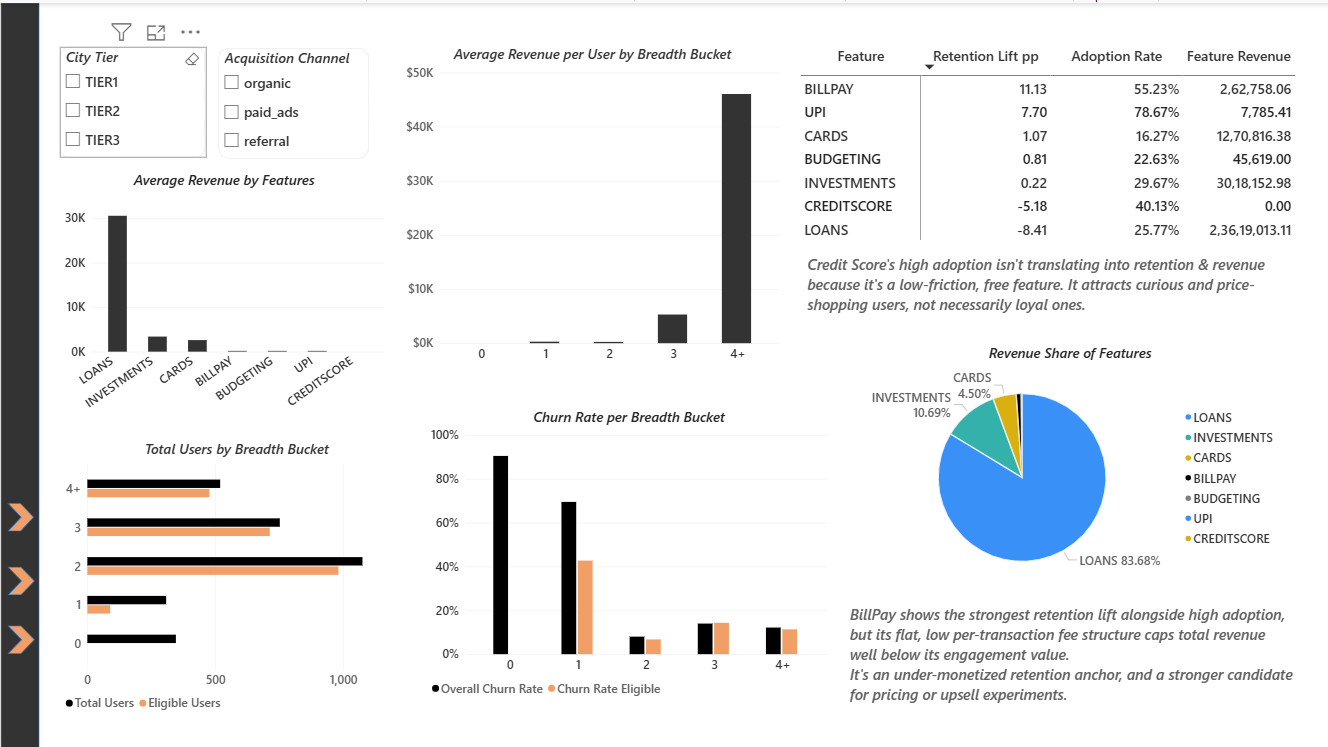

The dashboard page shown, as its layout file describes it:
{"tool":"powerbi","page":{"name":"Retention & Revenue","canvas":[1920,1080],"ordinal":2},"visuals":[{"type":"shape","box":[0,0,55.6,1080],"z":0,"group":"g1"},{"type":"clusteredColumnChart","title":"Churn Rate per Breadth Bucket","fields":{"Category":["fact_user_summary.Breadth Bucket"],"Y":["Measure Table.Overall Churn Rate","Measure Table.Churn Rate Eligible"]},"box":[606,570,606,454],"z":0},{"type":"pieChart","title":"Revenue Share of Features","fields":{"Category":["dim_feature.feature_name"],"Y":["Measure Table.Pct of Total Revenue"]},"box":[1228,478,638,392],"z":1000},{"type":"shape","box":[8.2,723.5,38.8,41.2],"z":1000,"group":"g1"},{"type":"clusteredColumnChart","title":"Average Revenue per User by Breadth Bucket","fields":{"Category":["fact_user_summary.Breadth Bucket"],"Y":["Measure Table.Avg Revenue per User"]},"box":[569.4,44.7,572.9,495.3],"z":2000},{"type":"shape","box":[8.2,815.3,40,41.2],"z":2000,"group":"g1"},{"type":"clusteredBarChart","title":"Total Users by Breadth Bucket","fields":{"Category":["fact_user_summary.Breadth Bucket"],"Y":["Measure Table.Total Users","Measure Table.Eligible Users"]},"box":[75.3,616.5,530.6,428.2],"z":3000},{"type":"shape","box":[8.2,901.2,40,41.2],"z":3000,"group":"g1"},{"type":"slicer","fields":{"Values":["dim_user.city_tier"]},"box":[85.9,63.5,210.6,161.2],"z":4000},{"type":"pivotTable","fields":{"Rows":["dim_feature.feature_name"],"Values":["Measure Table.Retention Lift pp","Measure Table.Adoption Rate","Measure Table.Feature Revenue"]},"box":[1142,44,748,320],"z":5000},{"type":"slicer","fields":{"Values":["dim_user.acquisition_channel"]},"box":[314.1,64.7,217.6,160],"z":6000},{"type":"clusteredColumnChart","title":"Average Revenue by Features","fields":{"Category":["fact_user_feature.feature_name"],"Y":["Measure Table.Avg Revenue per Adopter (All Features)"]},"box":[75.3,228.2,494.1,391.8],"z":7000},{"type":"textbox","box":[1167.9,364.2,720.8,113.2],"z":8000},{"type":"textbox","box":[1228,870,644,154],"z":9000},{"type":"group","id":"g1","title":"Group 1","box":[0,0,55.6,1080],"z":9001}]}

Visuals, with their boxes on the page's 1920x1080 design canvas (x1, y1, x2, y2). These are canvas units, not pixel positions in the 1328x747 screenshot, which may show the page scaled, cropped or inside an application window:
shape: [left=0, top=0, right=56, bottom=1080]
"Churn Rate per Breadth Bucket" clusteredColumnChart: [left=606, top=570, right=1212, bottom=1024]
"Revenue Share of Features" pieChart: [left=1228, top=478, right=1866, bottom=870]
shape: [left=8, top=724, right=47, bottom=765]
"Average Revenue per User by Breadth Bucket" clusteredColumnChart: [left=569, top=45, right=1142, bottom=540]
shape: [left=8, top=815, right=48, bottom=856]
"Total Users by Breadth Bucket" clusteredBarChart: [left=75, top=616, right=606, bottom=1045]
shape: [left=8, top=901, right=48, bottom=942]
slicer - dim_user.city_tier: [left=86, top=64, right=296, bottom=225]
pivotTable - dim_feature.feature_name x Measure Table.Retention Lift pp: [left=1142, top=44, right=1890, bottom=364]
slicer - dim_user.acquisition_channel: [left=314, top=65, right=532, bottom=225]
"Average Revenue by Features" clusteredColumnChart: [left=75, top=228, right=569, bottom=620]
textbox: [left=1168, top=364, right=1889, bottom=477]
textbox: [left=1228, top=870, right=1872, bottom=1024]
"Group 1" group: [left=0, top=0, right=56, bottom=1080]
